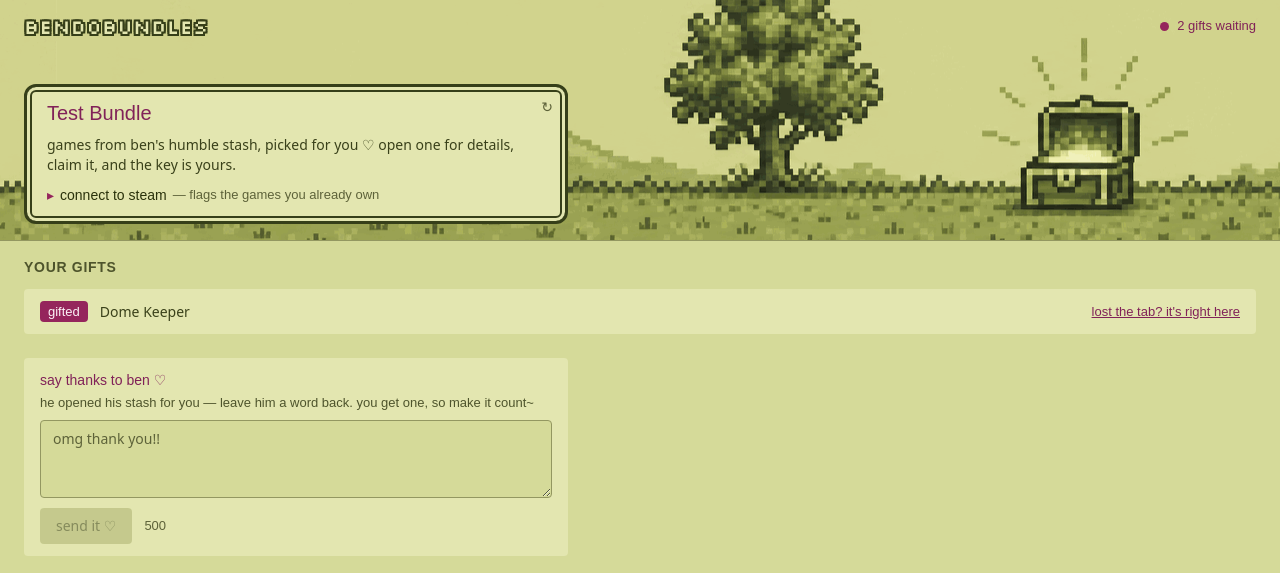
Test: LinkPage › say-thanks card › keeps the compose and shows the message when the server refuses
Expected: the heading "say thanks to ben ♡" is shown, x1=40 y1=372 x2=166 y2=388
In the text box named "your thank-you note": (296, 459) x1=40 y1=420 x2=552 y2=498, type "hello"
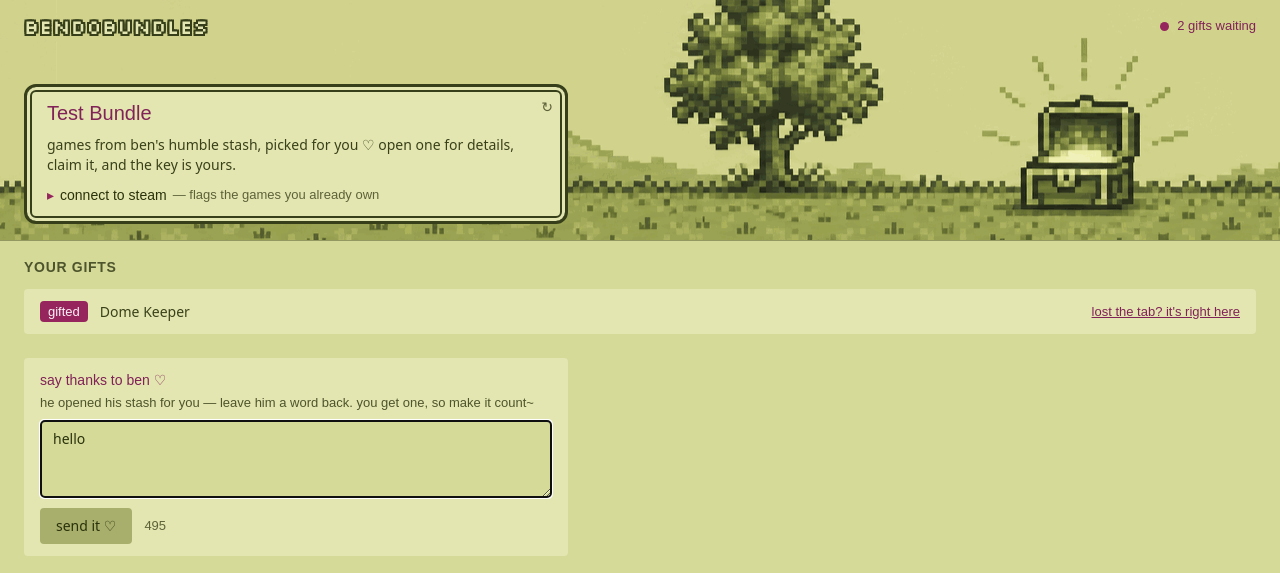
Click the button "send it ♡": (86, 526) x1=40 y1=508 x2=132 y2=544
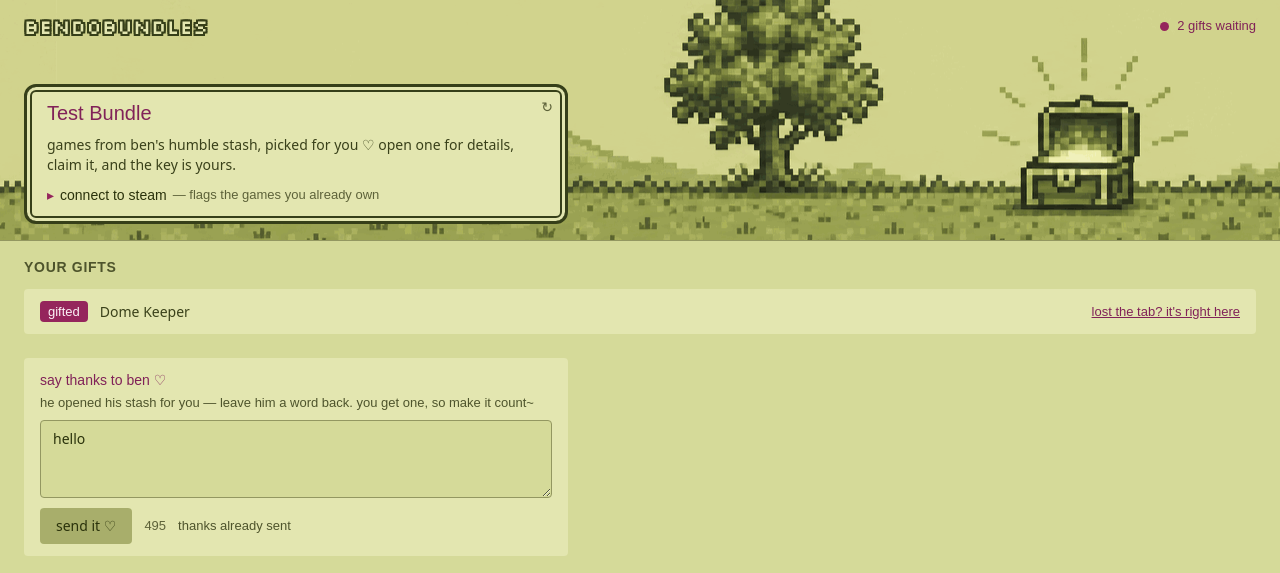
Expected: the text box named "your thank-you note" is enabled, x1=40 y1=420 x2=552 y2=498
Expected: the button "send it ♡" is enabled, x1=40 y1=508 x2=132 y2=544
Expected: the message reads "thanks already sent", x1=178 y1=518 x2=291 y2=533
